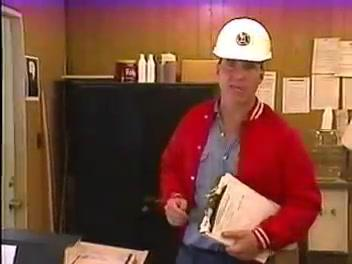helmet: (211, 14, 278, 67)
no -hi-vis jacket: (170, 101, 296, 246)
